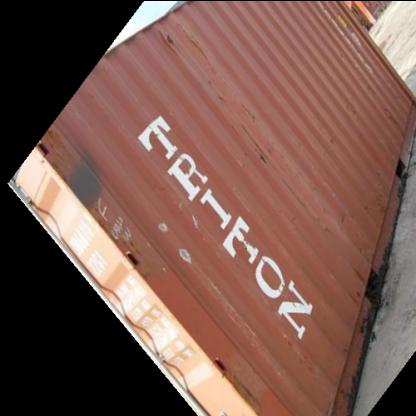Damage: (150, 208, 207, 276), (94, 186, 138, 252), (230, 124, 277, 174), (147, 20, 214, 50), (342, 262, 368, 308), (321, 204, 355, 235), (318, 121, 344, 150)
